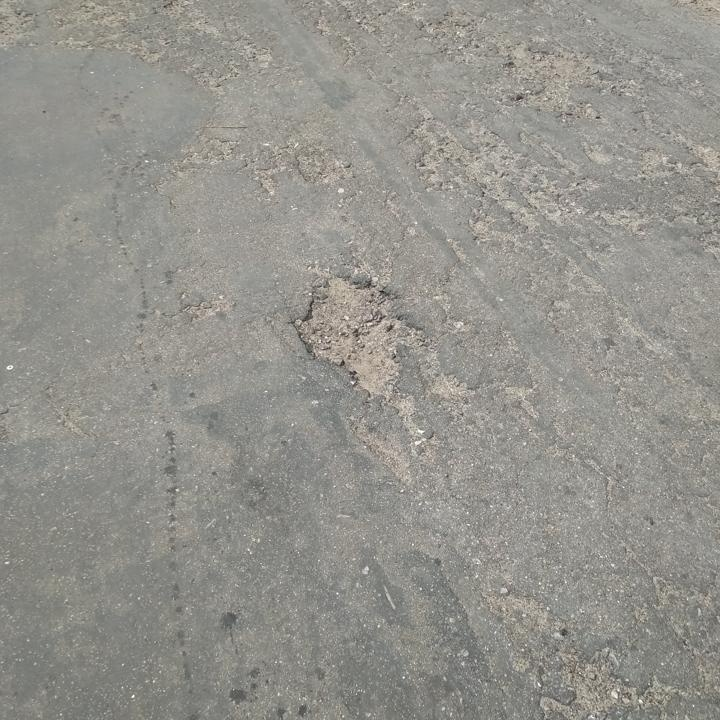pothole: (297, 273, 430, 399), (504, 39, 595, 120)
